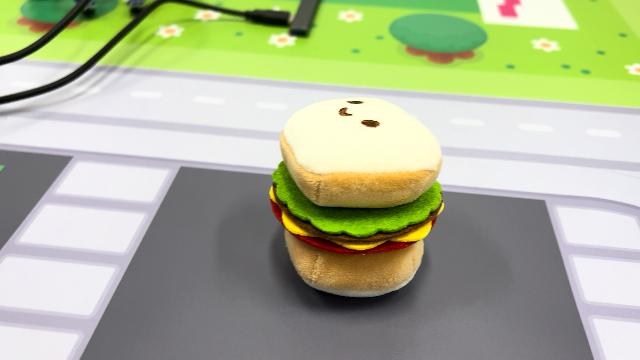sandwich: (266, 93, 448, 299)
